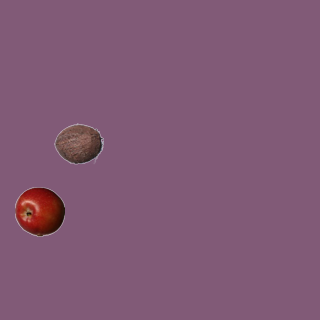Apple Braeburn: (14, 186, 64, 236)
Cocos: (53, 118, 103, 168)
